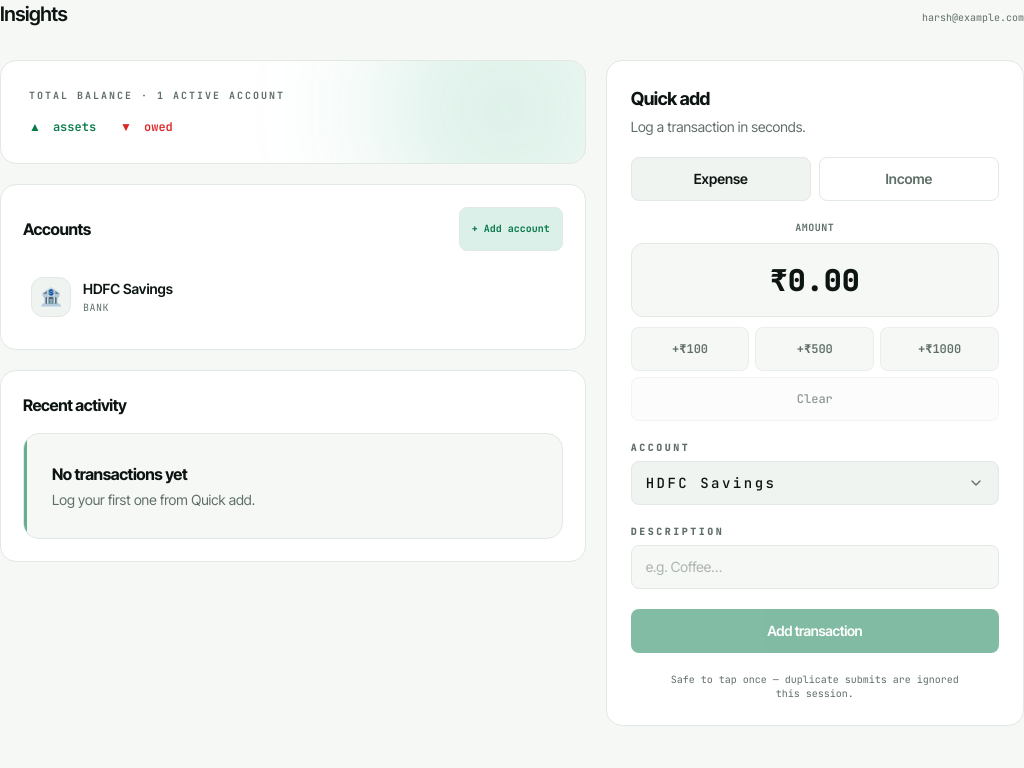
Scenario: DashboardHome › opens the create-account modal defaulted to bank from the accounts panel
This screenshot has width=1024, height=768.
Click the button "+ Add account". click: (511, 229)
box: [459,207,563,251]
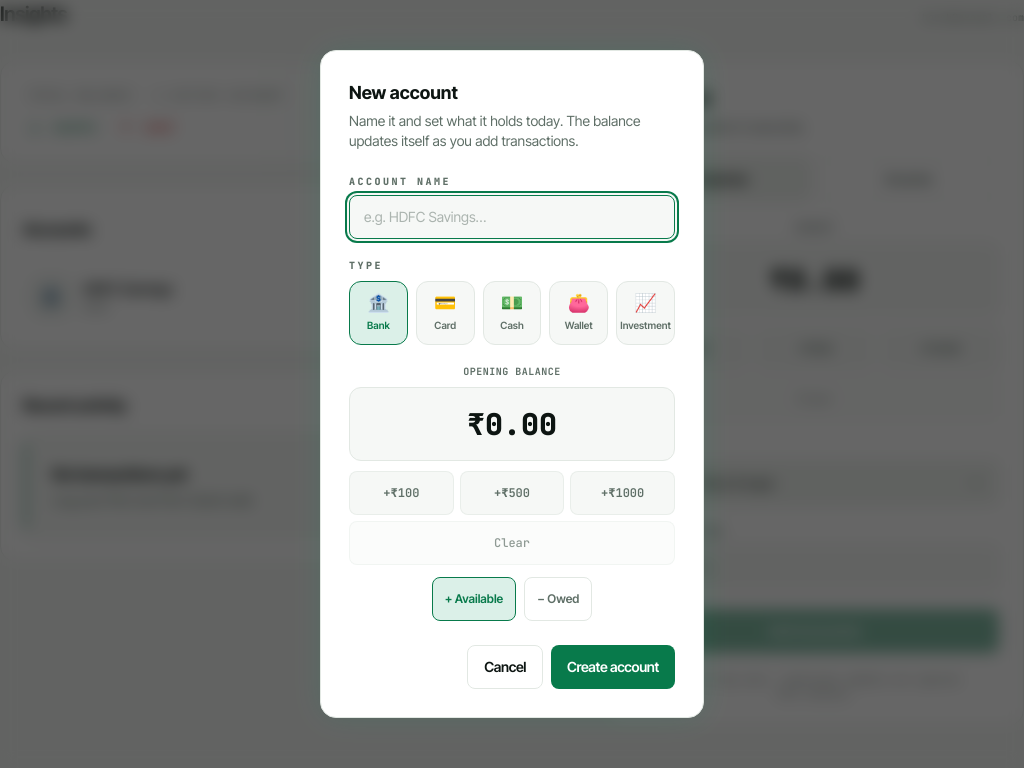
Check: the dialog is shown, box [320,50,704,718]
